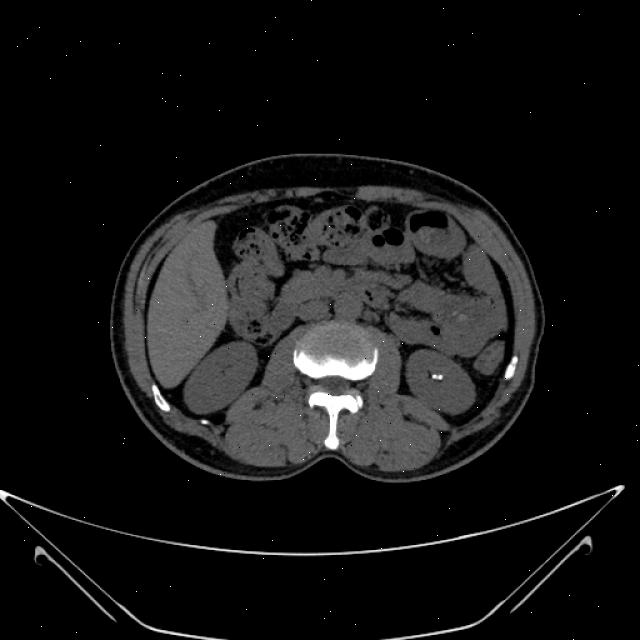kidneystone: (431, 372, 442, 380)
